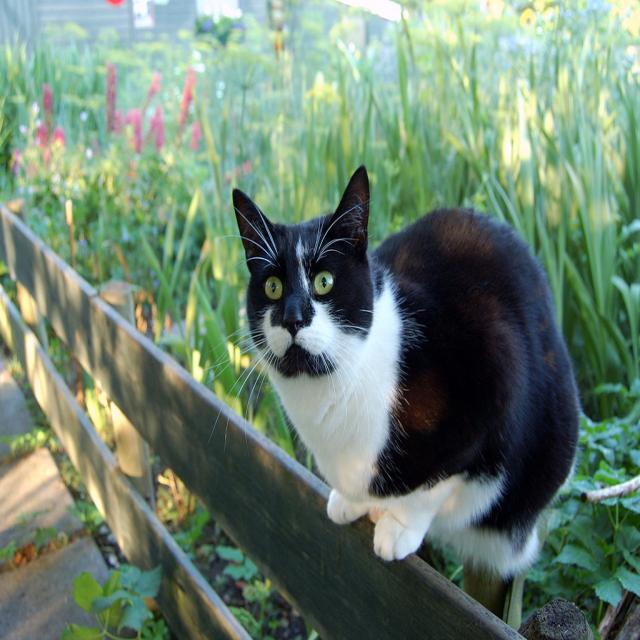cat: (211, 164, 582, 618)
